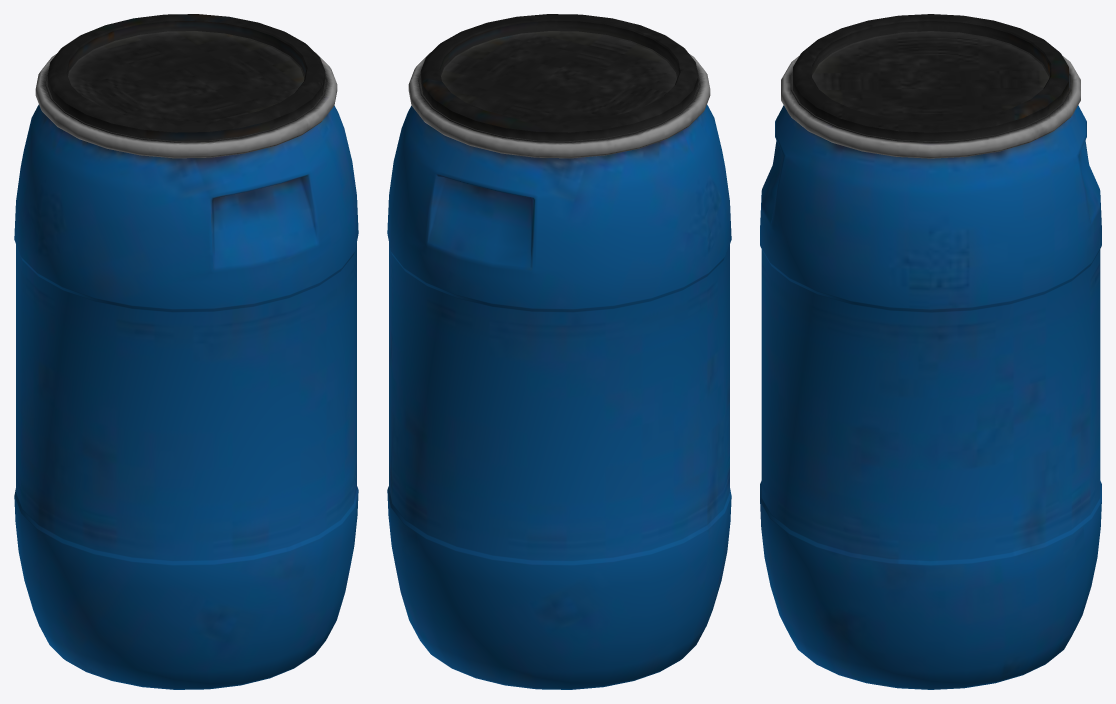
The picture shows the model from 3 angles, left to right: view 1: azimuth 30°, elevation 25°; view 2: azimuth 150°, elevation 25°; view 3: azimuth 270°, elevation 25°; orthographic projection.
Visible parts, largest first — view 1: Barrel_02; view 2: Barrel_02; view 3: Barrel_02.
Part boxes in pixels (x1,y1,x2,y2): Barrel_02: [14, 14, 358, 689]; Barrel_02: [387, 14, 731, 689]; Barrel_02: [760, 14, 1101, 689].
Bounding box in the file's own units: 0.4882 × 0.88 × 0.4846.
1 material, 1 textured.
